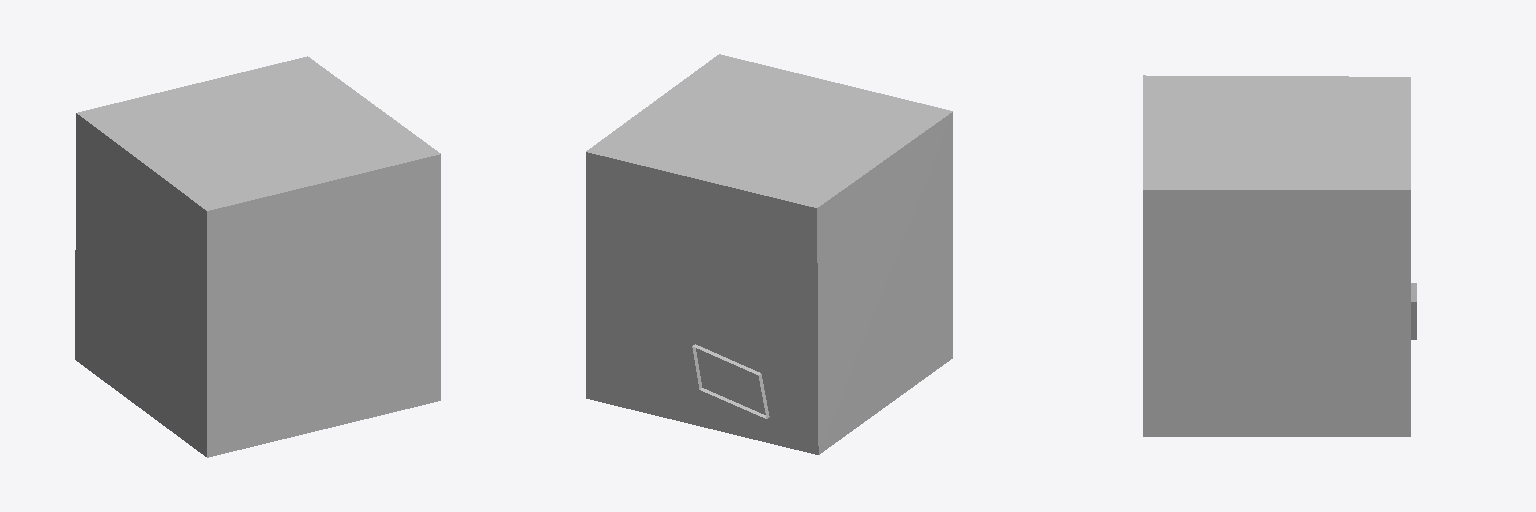
Rendered from cornell_export.obj.
The picture shows the model from 3 angles: view 1: azimuth 30°, elevation 25°; view 2: azimuth 150°, elevation 25°; view 3: azimuth 270°, elevation 25°; orthographic projection.
Parts seen in each view (by area): view 1: Light1; view 2: Light1; view 3: Light1.
Boxes of the visible parts, box(x1,y1,x2,y2) form: Light1: box(75, 56, 440, 457); Light1: box(586, 54, 952, 454); Light1: box(1143, 75, 1416, 436).
Bounding box in the file's own units: 33.36 × 33.55 × 33.67.